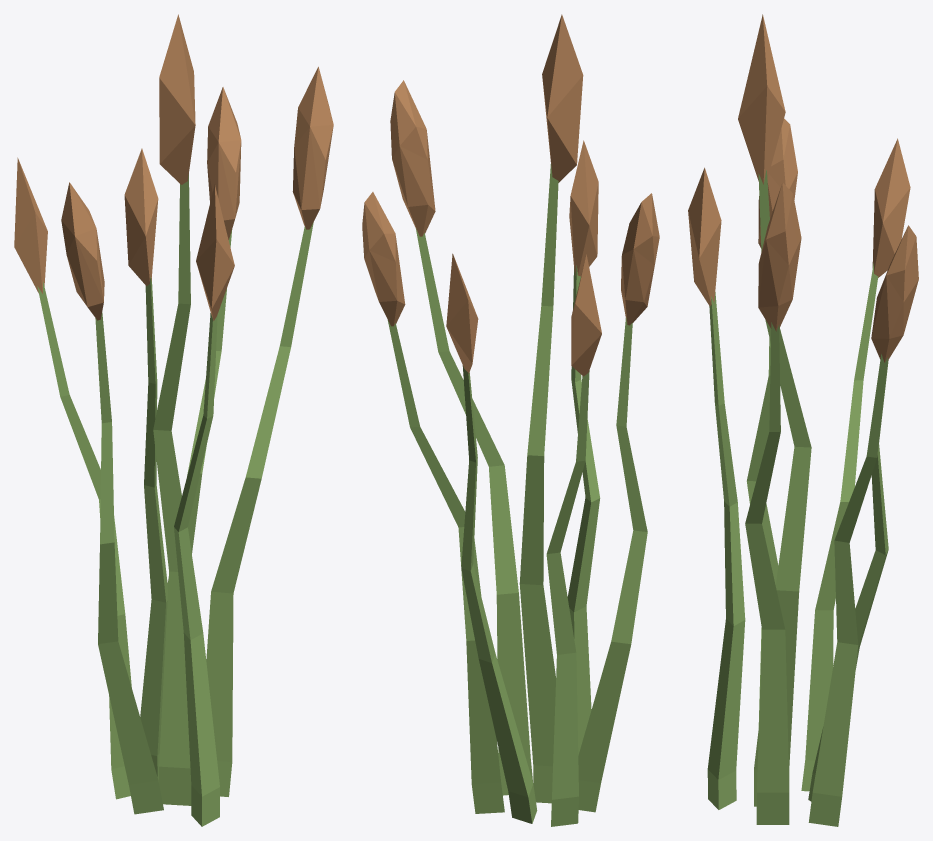
The model's file is flower-01.glb.
3 renders of one model, left to right at view 1: azimuth 30°, elevation 25°; view 2: azimuth 150°, elevation 25°; view 3: azimuth 270°, elevation 25°, orthographic.
Parts seen in each view (by area): view 1: Reeds1; view 2: Reeds1; view 3: Reeds1.
Part boxes in pixels (box(x1,y1,x2,y2)): Reeds1: box(14, 14, 333, 826); Reeds1: box(362, 14, 659, 826); Reeds1: box(688, 14, 918, 826).
Bounding box in the file's own units: 0.5901 × 1.68 × 0.4453.
